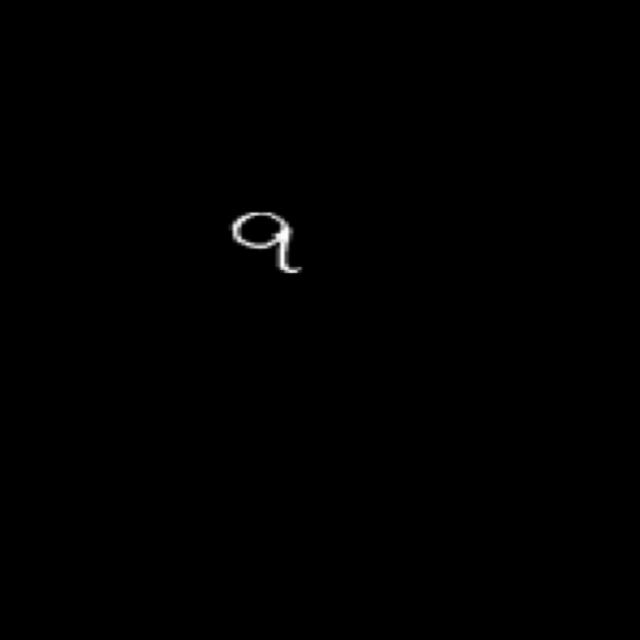nine -9-: (224, 207, 306, 276)
